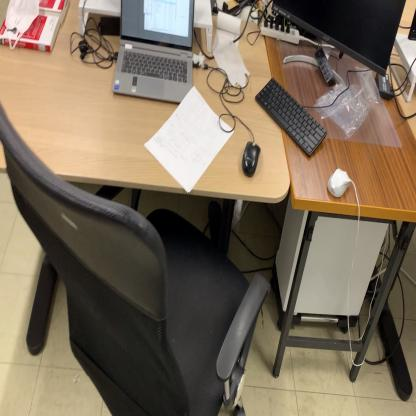chair: (0, 100, 272, 416)
